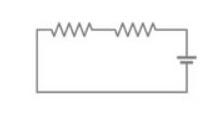resistor: (109, 18, 166, 43), (40, 16, 99, 39)
